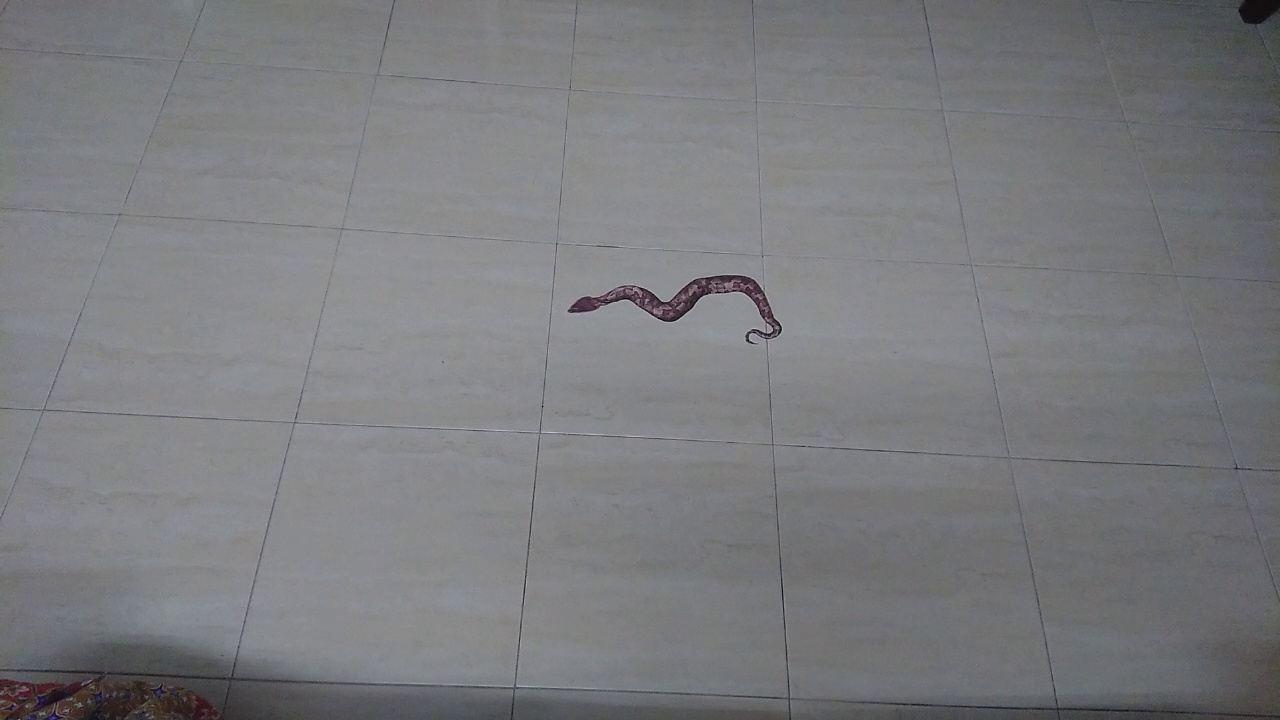snake: (540, 262, 799, 363)
